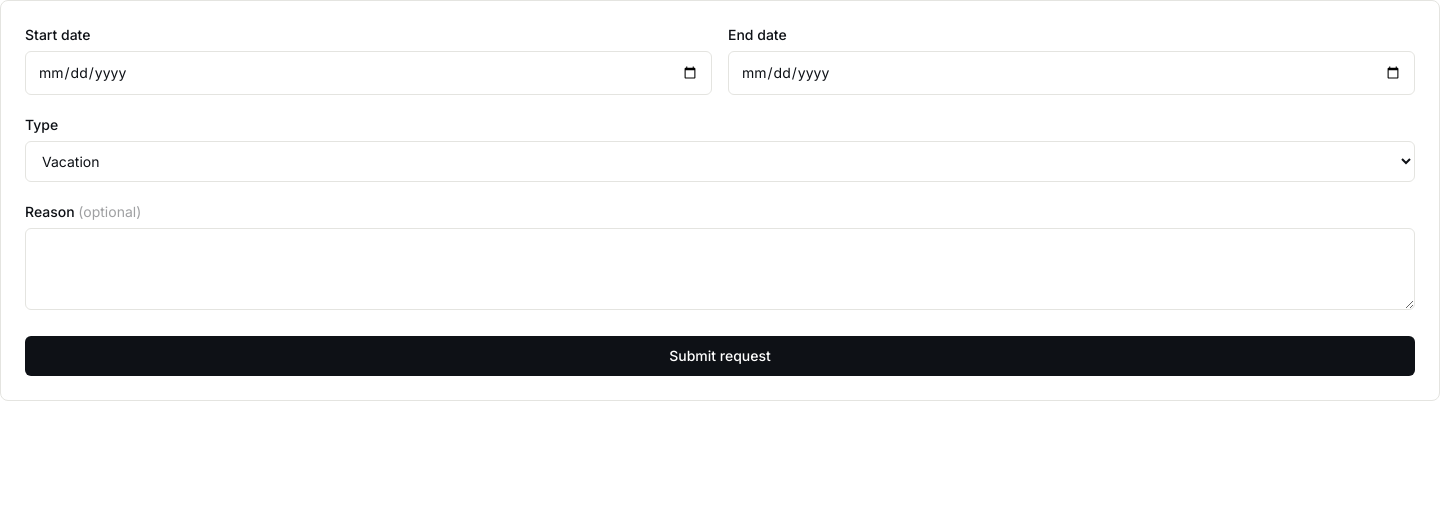
Test: LeaveRequestForm › explains an overlap (409) next to the form
The width and height of the screenshot is (1440, 518).
In the date field labelled "Start date": (368, 73) x1=25 y1=51 x2=712 y2=95, type "2026-10-14"
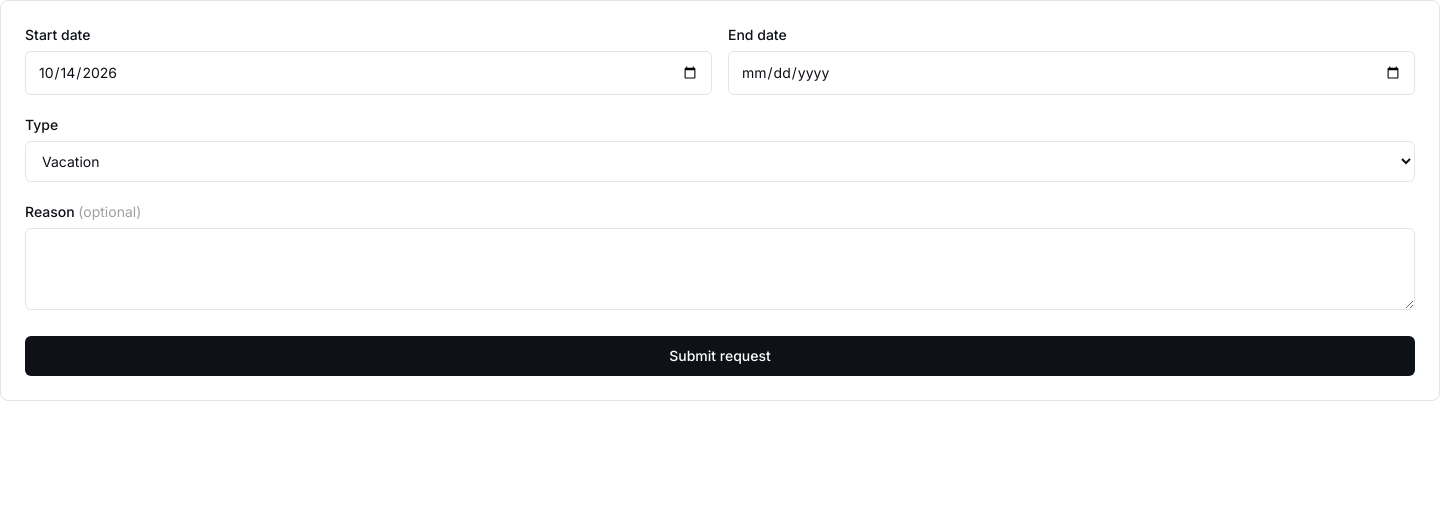
In the date field labelled "End date": (1072, 73) x1=728 y1=51 x2=1415 y2=95, type "2026-10-15"
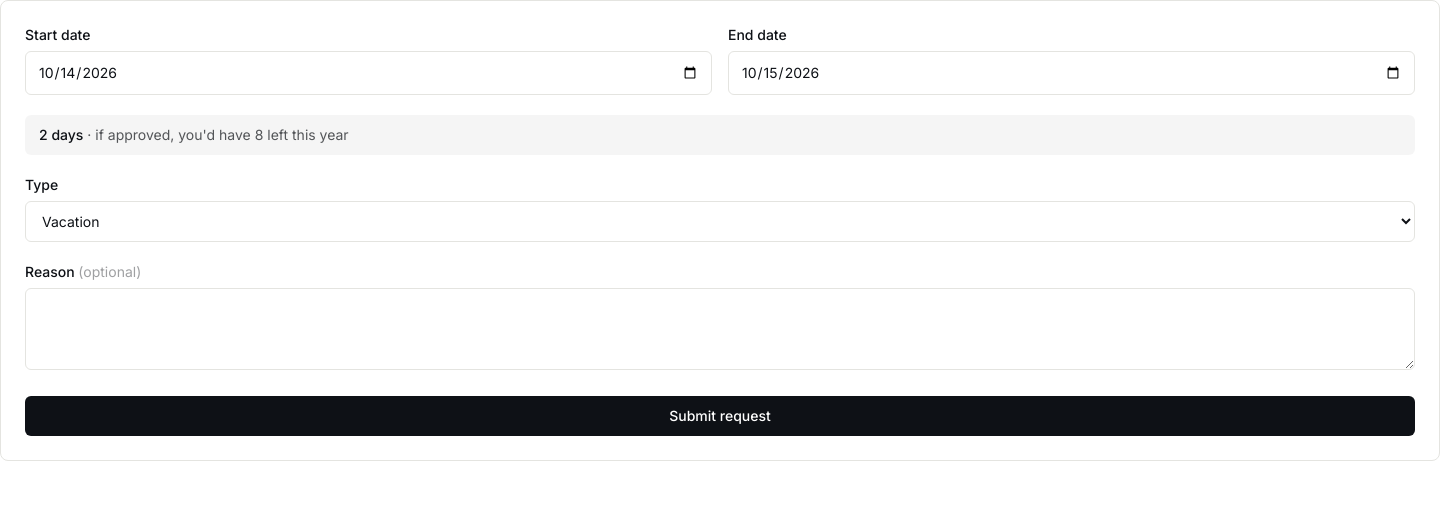
Click the button "Submit request": (720, 416) x1=25 y1=396 x2=1415 y2=436
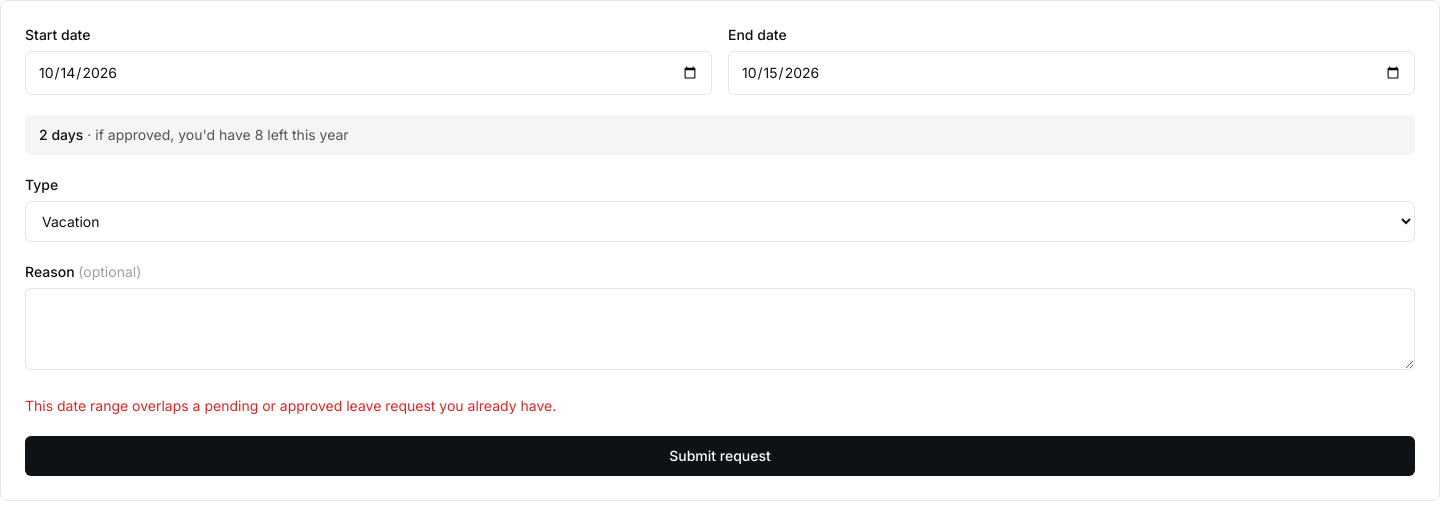
Result: the text "overlaps a pending or approved leave request" is shown at x1=25 y1=397 x2=556 y2=414
